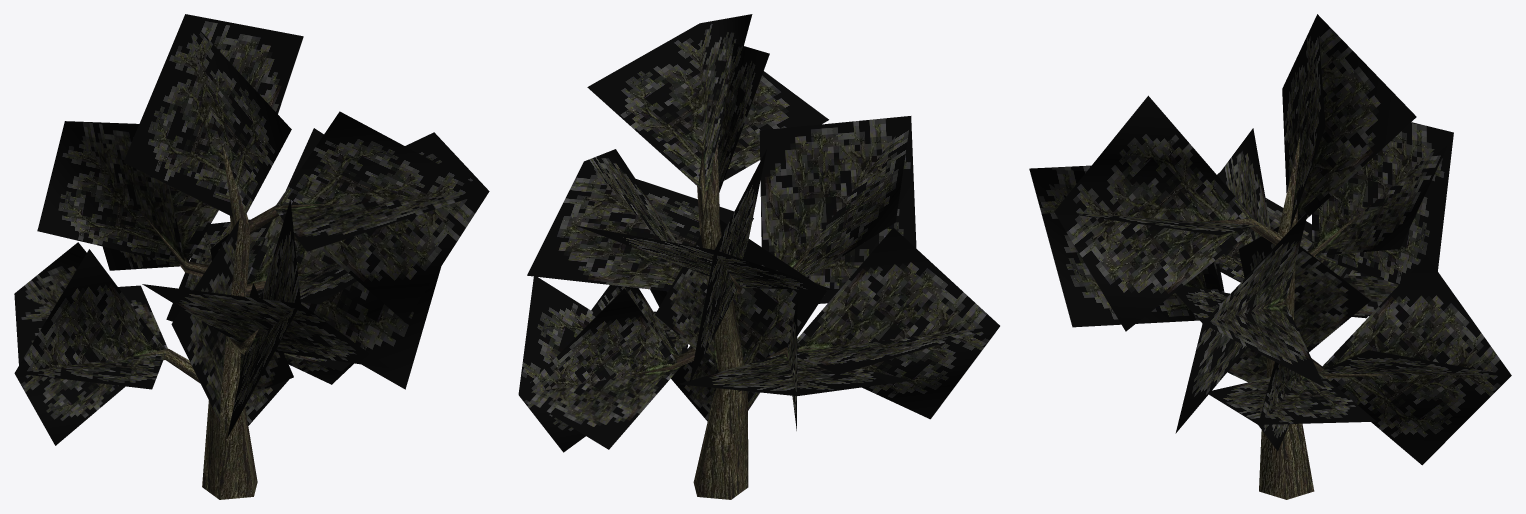
File: OW_LOB_TREE_V11.glb
The picture shows the model from 3 angles, left to right: view 1: azimuth 30°, elevation 25°; view 2: azimuth 150°, elevation 25°; view 3: azimuth 270°, elevation 25°; orthographic projection. The views are drawn at different scales.
Parts seen in each view (by area): view 1: Mesh; view 2: Mesh; view 3: Mesh.
Part boxes in pixels (box(x1,y1,x2,y2)): Mesh: box(14, 14, 489, 499); Mesh: box(518, 14, 999, 499); Mesh: box(1029, 14, 1511, 499).
Bounding box in the file's own units: 19.21 × 20.02 × 19.08.
Materials: 2 (2 with a texture image).
